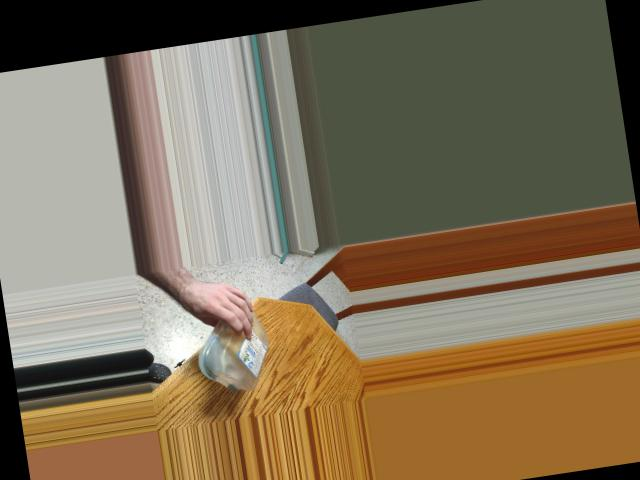cheese: (192, 295, 280, 399)
